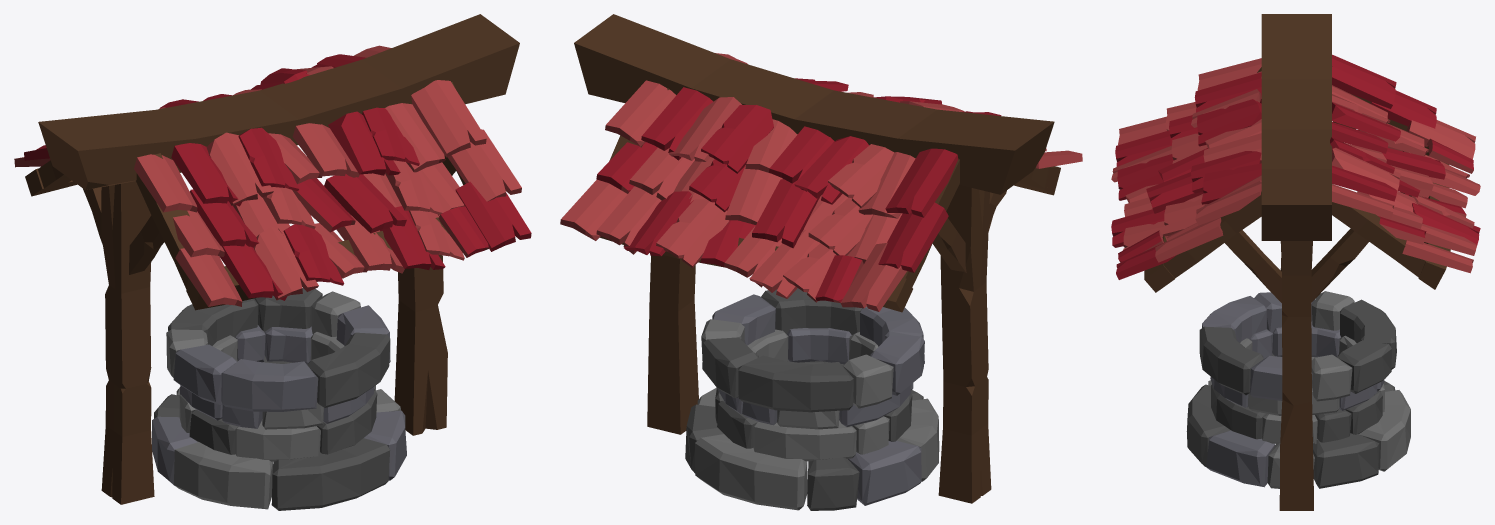
Rendered from wellwellwell.fbx.
3 views of the same model, side by side, from view 1: azimuth 30°, elevation 25°; view 2: azimuth 150°, elevation 25°; view 3: azimuth 270°, elevation 25° (orthographic). The views are drawn at different scales.
Parts seen in each view (by area): view 1: Cube.006, Cube.003, Cube, Cube.005, Cube.004, Cube.002, Cube.001, Cube.035, Cube.041, Cube.045, Cube.055, Cube.028 (+29 smaller); view 2: Cube.006, Cube.003, Cube, Cube.005, Cube.004, Cube.002, Cube.001, Cube.065, Cube.059, Cube.079, Cube.071, Cube.075 (+29 smaller); view 3: Cube.006, Cube.003, Cube, Cube.004, Cube.001, Cube.002, Cube.023, Cube.065, Cube.007, Cube.029, Cube.024, Cube.016 (+48 smaller).
Boxes of the visible parts, x1,y1,x2,y2 form: Cube.006: [38, 14, 519, 190]; Cube.003: [166, 288, 390, 411]; Cube: [152, 387, 406, 510]; Cube.005: [101, 181, 154, 504]; Cube.004: [394, 255, 447, 435]; Cube.002: [180, 325, 375, 429]; Cube.001: [179, 355, 377, 461]; Cube.035: [411, 80, 486, 157]; Cube.041: [324, 174, 406, 233]; Cube.045: [447, 129, 521, 201]; Cube.055: [455, 181, 531, 251]; Cube.028: [206, 132, 273, 205]; Cube.006: [574, 14, 1054, 194]; Cube.003: [701, 288, 924, 412]; Cube: [685, 388, 939, 510]; Cube.005: [938, 185, 991, 503]; Cube.004: [647, 255, 698, 434]; Cube.002: [716, 328, 913, 429]; Cube.001: [715, 360, 912, 461]; Cube.065: [885, 148, 958, 217]; Cube.059: [701, 105, 773, 173]; Cube.079: [656, 199, 729, 267]; Cube.071: [752, 179, 820, 248]; Cube.075: [878, 202, 948, 272]; Cube.006: [1261, 14, 1331, 240]; Cube.003: [1199, 291, 1396, 401]; Cube: [1186, 380, 1410, 488]; Cube.004: [1279, 241, 1313, 510]; Cube.001: [1211, 353, 1384, 444]; Cube.002: [1210, 321, 1384, 415]; Cube.023: [1332, 184, 1425, 278]; Cube.065: [1332, 54, 1396, 108]; Cube.007: [1164, 191, 1261, 278]; Cube.029: [1197, 99, 1261, 146]; Cube.024: [1311, 228, 1368, 302]; Cube.016: [1225, 230, 1281, 302].
Bounding box in the file's own units: 388 × 316 × 317.
